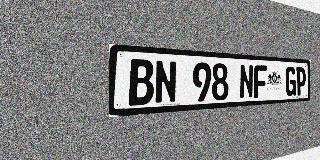8: (212, 63, 228, 101)
9: (193, 62, 211, 102)
B: (129, 59, 154, 106)
F: (254, 65, 267, 98)
G: (285, 66, 296, 96)
N: (155, 60, 177, 104), (239, 64, 253, 99)
P: (296, 67, 306, 96)
